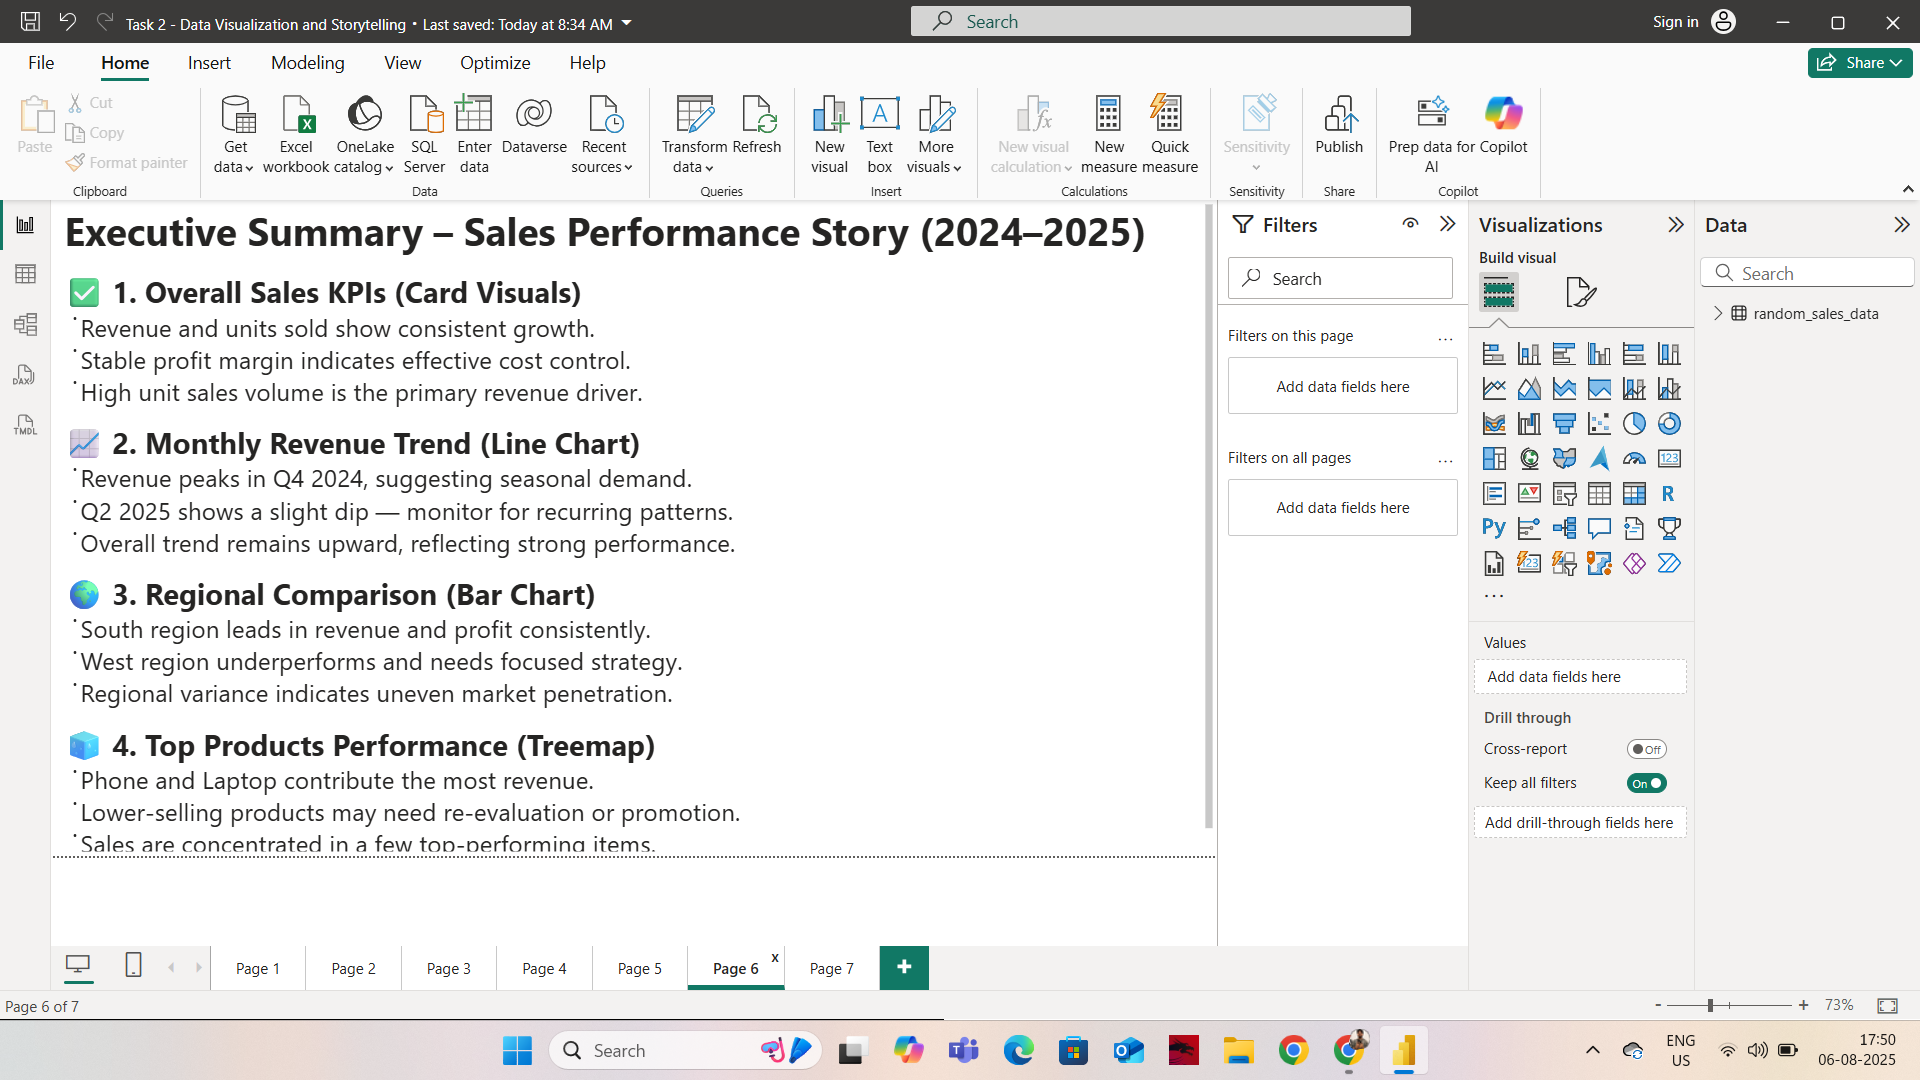

The dashboard page shown, as its layout file describes it:
{"tool":"powerbi","page":{"name":"Page 6","canvas":[1280,720],"ordinal":5},"visuals":[{"type":"textbox","box":[9.6,0,1270.7,720.4],"z":0}]}

Visuals, with their boxes on the page's 1280x720 design canvas (x1, y1, x2, y2). These are canvas units, not pixel positions in the 1920x1080 screenshot, which may show the page scaled, cropped or inside an application window:
textbox: bbox=[10, 0, 1280, 720]
